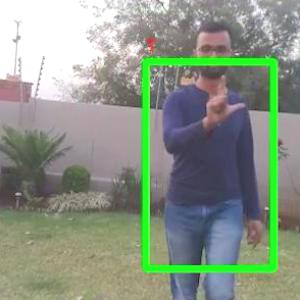land_hand: (205, 66, 245, 122)
